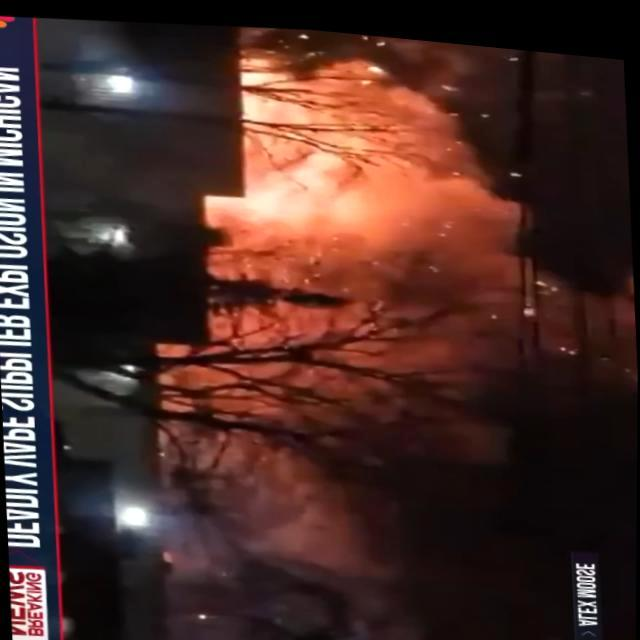fire: (186, 14, 522, 310)
